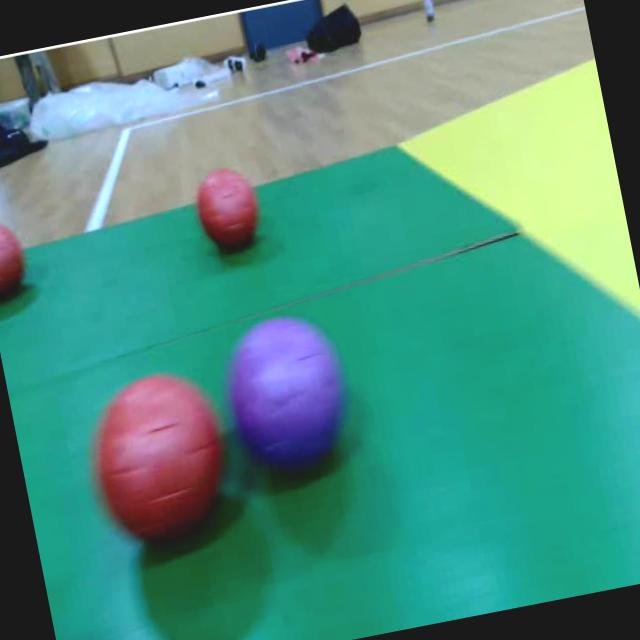purple_ball: (211, 306, 356, 480)
red_ball: (76, 364, 238, 549), (188, 164, 263, 250), (0, 212, 31, 299)
